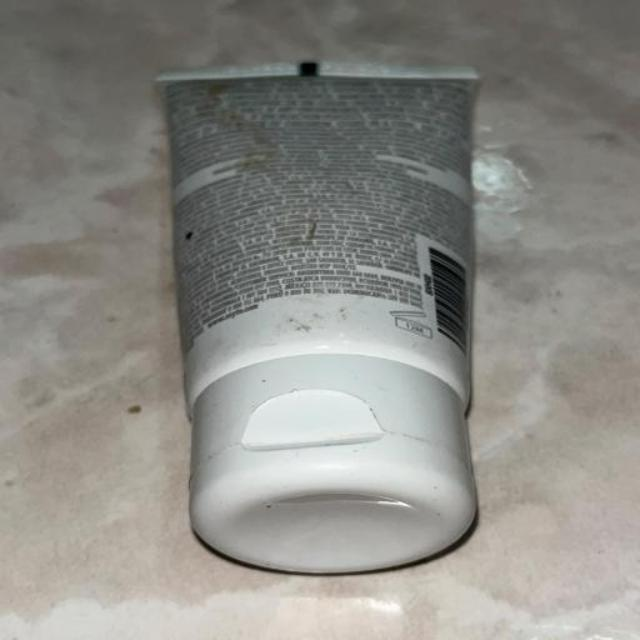HDPE: (94, 52, 561, 591)
